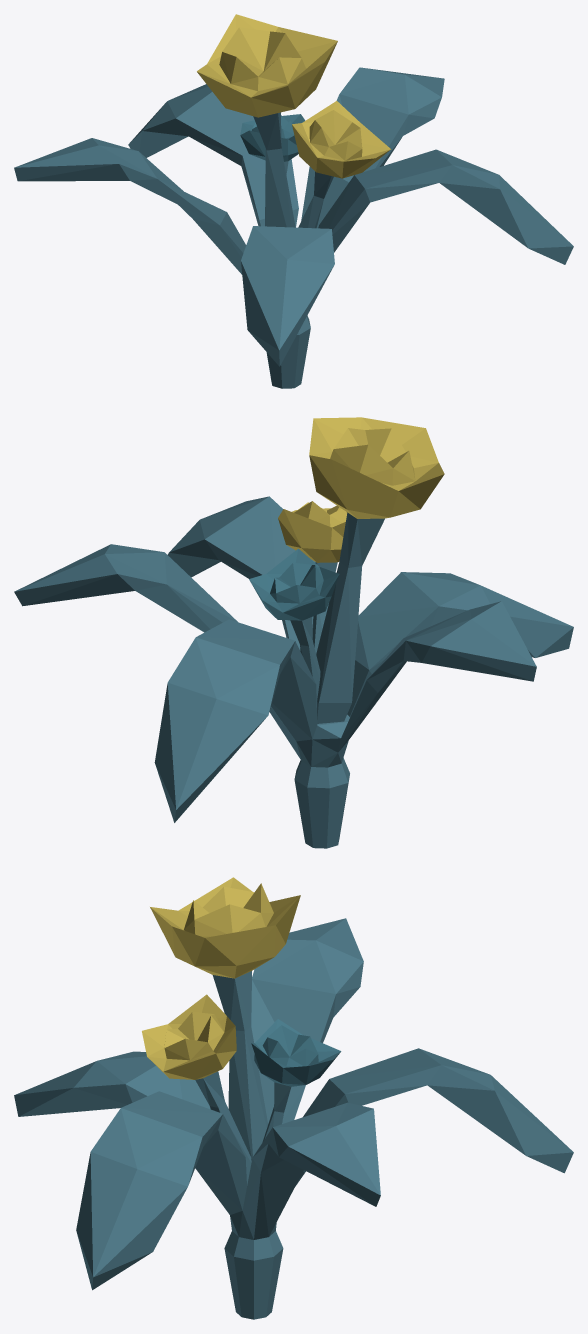
Rendered from SM_Env_Plant_05.fbx.
3 renders of one model, top to bottom at view 1: azimuth 30°, elevation 25°; view 2: azimuth 150°, elevation 25°; view 3: azimuth 270°, elevation 25°, orthographic. The views are drawn at different scales.
Parts seen in each view (by area): view 1: SM_Env_Plant_05; view 2: SM_Env_Plant_05; view 3: SM_Env_Plant_05.
Boxes of the visible parts, x1,y1,x2,y2 form: SM_Env_Plant_05: (14,14,573,388); SM_Env_Plant_05: (14,417,573,848); SM_Env_Plant_05: (14,877,573,1319).
Size of the model in its own units: 0.0099 by 0.0077 by 0.00965.
1 material, 1 textured.
